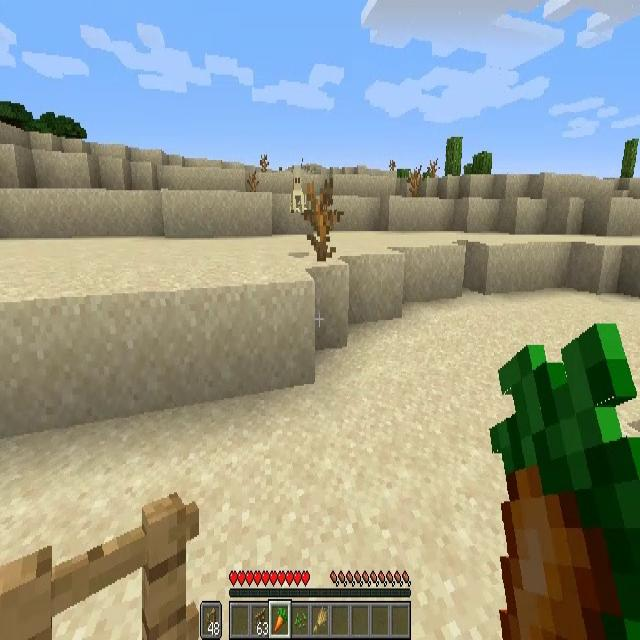rabbit: (291, 168, 304, 213)
